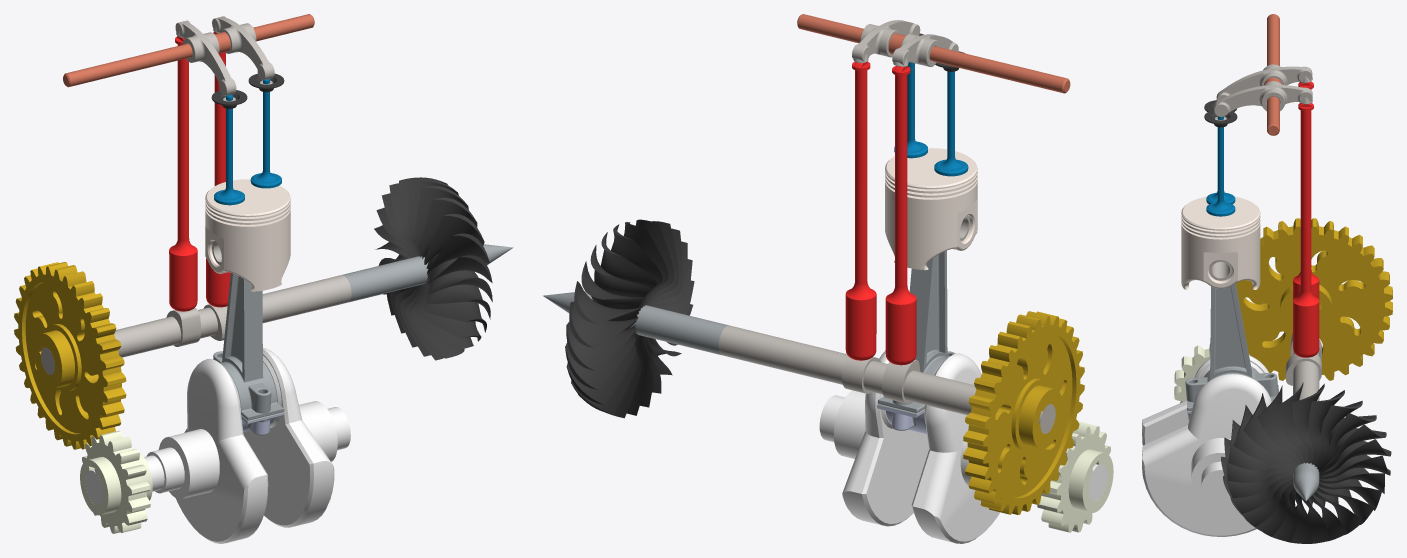
File: Assem1.glb
3 views of the same model, side by side, from view 1: azimuth 30°, elevation 25°; view 2: azimuth 150°, elevation 25°; view 3: azimuth 270°, elevation 25° (orthographic). The views are drawn at different scales.
Visible parts, largest first — view 1: crankshaft-1, propeller-1, gear-1, piston-1, camshaft-1, connecting rod-1, driving gear-1, rod-1, SHAFT-1, VALVE-1 (×2), rod-2, rocker arm-3 (+1 smaller); view 2: propeller-1, crankshaft-1, gear-1, camshaft-1, piston-1, rod-1, rod-2, driving gear-1, connecting rod-1, SHAFT-1, VALVE-1 (×2), rocker arm-5 (+2 smaller); view 3: propeller-1, gear-1, crankshaft-1, piston-1, connecting rod-1, rod-2, rocker arm-5, camshaft-1, rocker arm-3, SHAFT-1, driving gear-1, VALVE-1 (+3 smaller).
Part boxes in pixels (<box>): crankshaft-1: <box>85,347,350,543</box>; propeller-1: <box>342,177,513,360</box>; gear-1: <box>14,262,126,449</box>; piston-1: <box>205,179,290,291</box>; camshaft-1: <box>41,275,351,374</box>; connecting rod-1: <box>213,272,284,420</box>; driving gear-1: <box>80,430,152,533</box>; rod-1: <box>169,36,197,311</box>; SHAFT-1: <box>63,14,314,87</box>; VALVE-1 (×2): <box>214,79,281,205</box>; rod-2: <box>206,32,230,307</box>; rocker arm-3: <box>175,20,236,95</box>; propeller-1: <box>543,219,729,418</box>; crankshaft-1: <box>819,350,1107,543</box>; gear-1: <box>963,311,1084,514</box>; camshaft-1: <box>718,325,1055,433</box>; piston-1: <box>885,148,977,270</box>; rod-1: <box>885,66,916,365</box>; rod-2: <box>845,61,876,360</box>; driving gear-1: <box>1037,421,1113,532</box>; connecting rod-1: <box>877,250,955,413</box>; SHAFT-1: <box>797,14,1070,93</box>; VALVE-1 (×2): <box>894,62,968,176</box>; rocker arm-5: <box>852,20,920,63</box>; propeller-1: <box>1221,382,1391,543</box>; gear-1: <box>1236,218,1392,380</box>; crankshaft-1: <box>1142,355,1271,536</box>; piston-1: <box>1181,196,1260,289</box>; connecting rod-1: <box>1185,283,1278,410</box>; rod-2: <box>1293,103,1319,357</box>; rocker arm-5: <box>1214,81,1312,116</box>; camshaft-1: <box>1285,333,1321,401</box>; rocker arm-3: <box>1216,64,1312,101</box>; SHAFT-1: <box>1264,14,1281,135</box>; driving gear-1: <box>1174,343,1249,402</box>; VALVE-1: <box>1206,116,1235,216</box>.
Size of the model in its own units: 0.3787 by 0.3705 by 0.1909.
